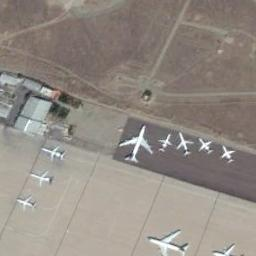Airplane: (118, 120, 155, 166), (142, 231, 192, 256), (38, 140, 68, 164), (176, 128, 196, 158), (219, 141, 240, 167), (28, 167, 52, 187), (10, 195, 38, 212), (198, 134, 216, 160), (157, 130, 173, 154)
